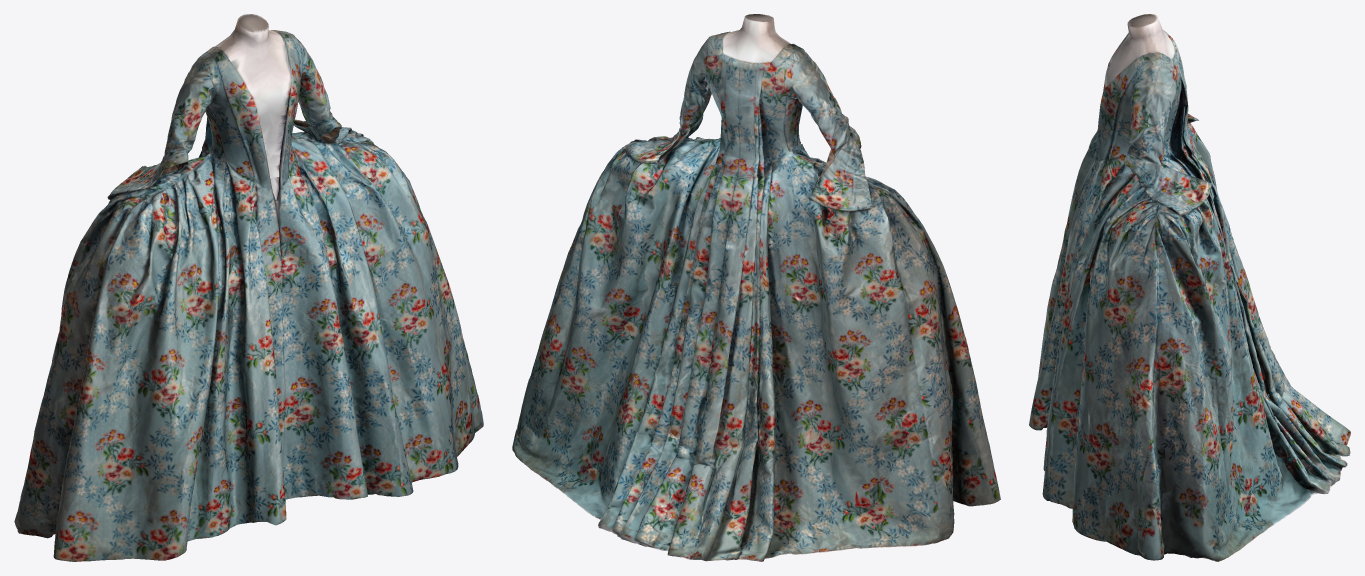
File: robe.glb
3 renders of one model, left to right at view 1: azimuth 30°, elevation 25°; view 2: azimuth 150°, elevation 25°; view 3: azimuth 270°, elevation 25°, orthographic. The views are drawn at different scales.
Parts seen in each view (by area): view 1: T8503_Artec-scan_edited; view 2: T8503_Artec-scan_edited; view 3: T8503_Artec-scan_edited.
Part boxes in pixels (x1,y1,x2,y2): T8503_Artec-scan_edited: (14, 14, 483, 561); T8503_Artec-scan_edited: (512, 14, 1000, 561); T8503_Artec-scan_edited: (1029, 14, 1350, 561).
Bounding box in the file's own units: 143 × 142 × 92.7.
1 material, 1 textured.
